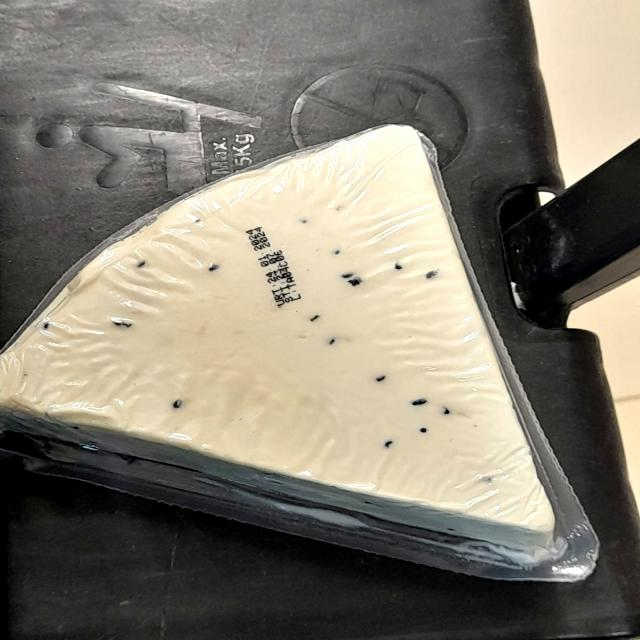cheese: (7, 133, 577, 584)
